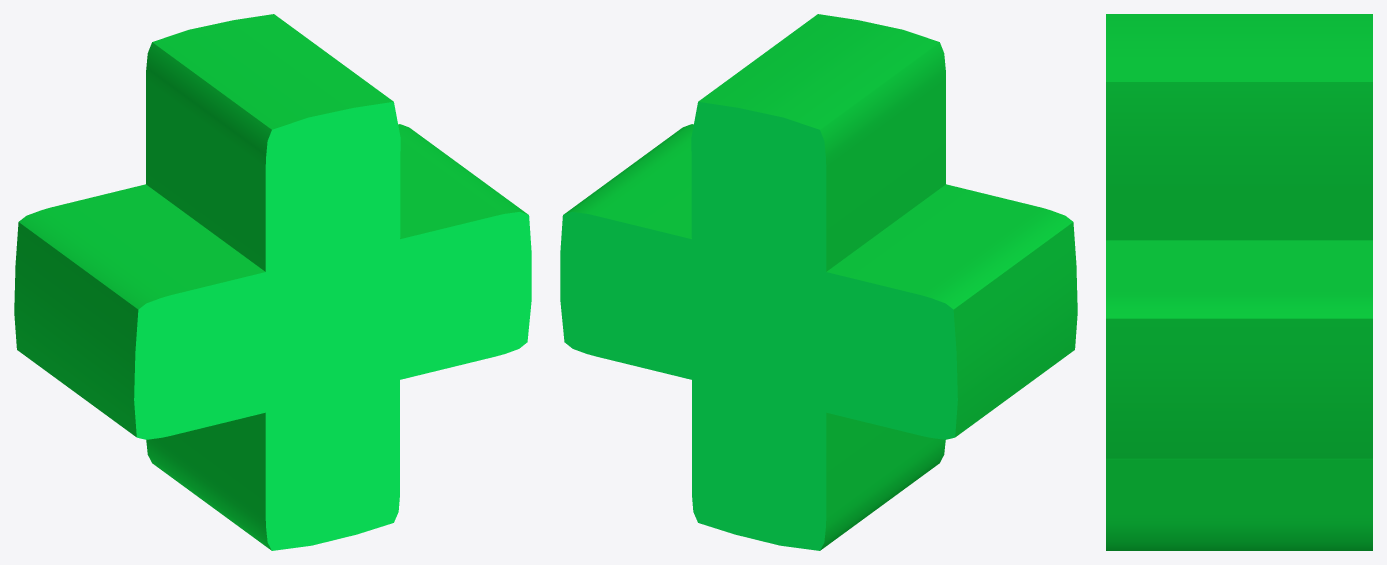
Rendered from e9bf8863-3637-4201-bc3b-52ccd99324b1.glb.
3 renders of one model, left to right at view 1: azimuth 30°, elevation 25°; view 2: azimuth 150°, elevation 25°; view 3: azimuth 270°, elevation 25°, orthographic. The views are drawn at different scales.
Visible parts, largest first — view 1: +_Zyzol_Green; view 2: +_Zyzol_Green; view 3: +_Zyzol_Green.
Boxes of the visible parts, x1,y1,x2,y2 form: +_Zyzol_Green: (14, 14, 531, 550); +_Zyzol_Green: (560, 14, 1077, 550); +_Zyzol_Green: (1106, 14, 1372, 550).
Size of what is drawn, in the model's own units: 0.0862 by 0.0888 by 0.045.
Materials: 2 (2 with a texture image).
